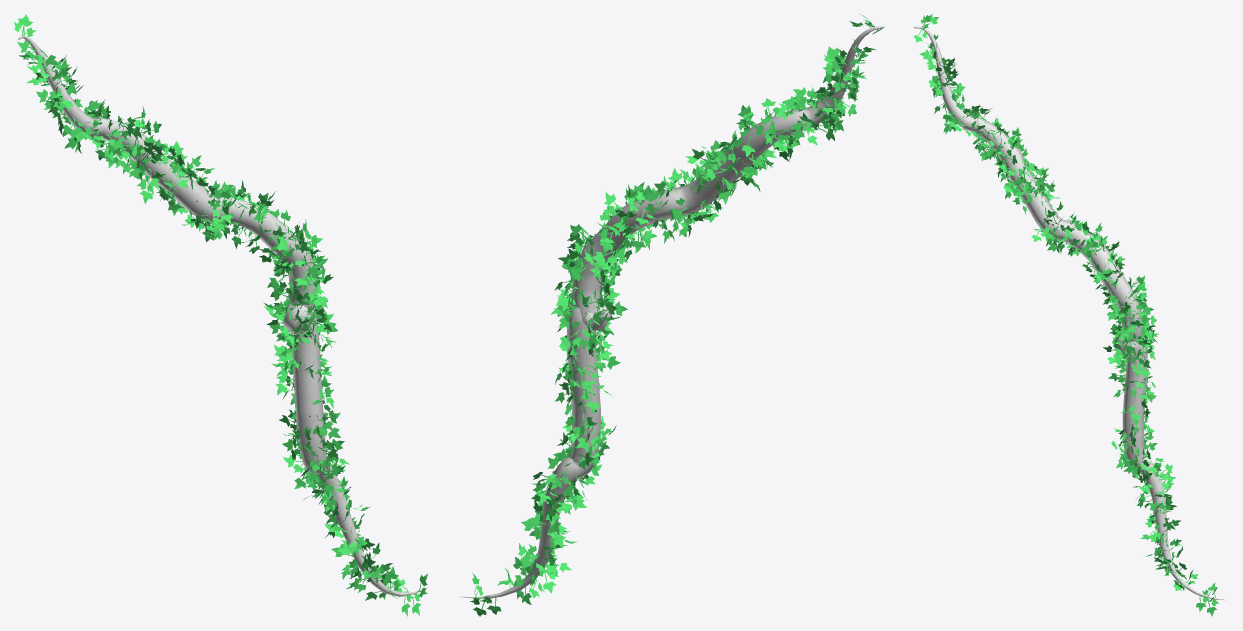
Rendered from VineDeco5.fbx.
The picture shows the model from 3 angles, left to right: view 1: azimuth 30°, elevation 25°; view 2: azimuth 150°, elevation 25°; view 3: azimuth 330°, elevation 25°; orthographic projection. The views are drawn at different scales.
Parts seen in each view (by area): view 1: BézierCurve.014; view 2: BézierCurve.014; view 3: BézierCurve.014.
Boxes of the visible parts, x1,y1,x2,y2 form: BézierCurve.014: (14, 14, 427, 616); BézierCurve.014: (458, 14, 884, 616); BézierCurve.014: (913, 14, 1226, 616).
Bounding box in the file's own units: 1340 × 2131 × 242.
